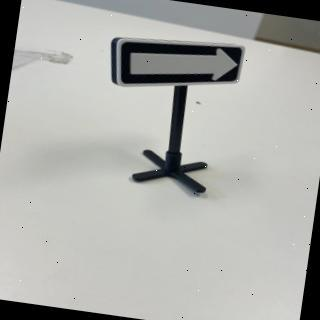sign_oneway_right: (102, 31, 254, 102)
